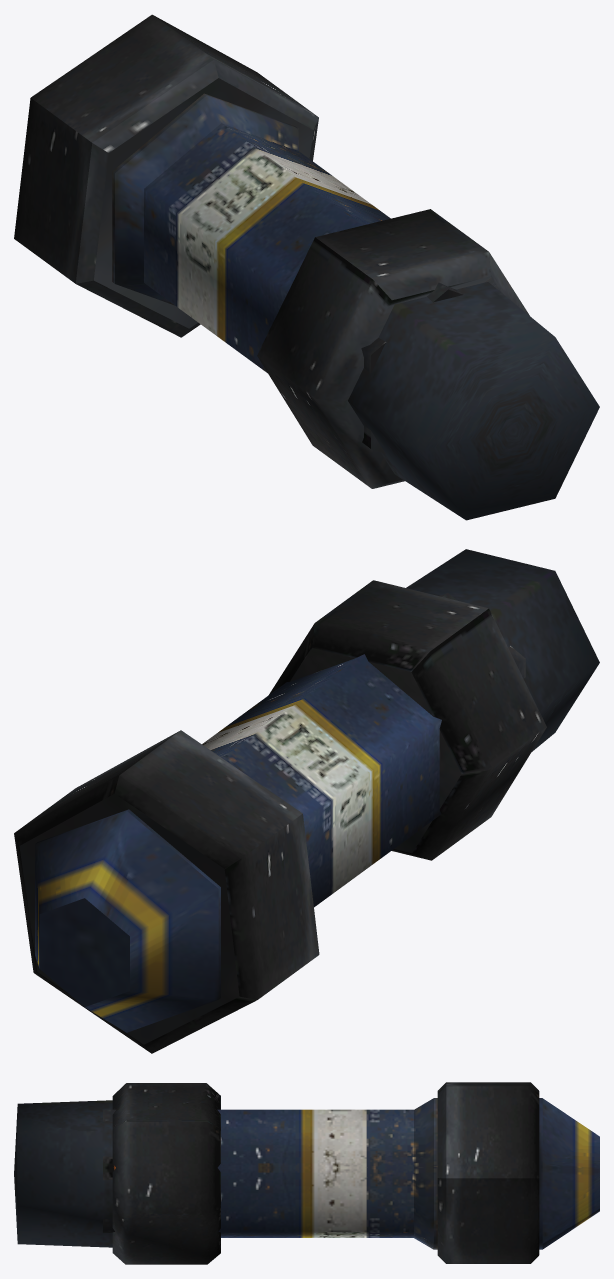
The model's file is t6_wpn_grenade_emp_world_LOD1.obj.
3 renders of one model, top to bottom at view 1: azimuth 30°, elevation 25°; view 2: azimuth 150°, elevation 25°; view 3: azimuth 270°, elevation 25°, orthographic. The views are drawn at different scales.
Visible parts, largest first — view 1: mtl_t6_wpn_grenade_emp, mtl_t6_wpn_grenade_emp_glass_world; view 2: mtl_t6_wpn_grenade_emp, mtl_t6_wpn_grenade_emp_glass_world; view 3: mtl_t6_wpn_grenade_emp, mtl_t6_wpn_grenade_emp_glass_world.
Boxes of the visible parts, left/top/right/bottom form: mtl_t6_wpn_grenade_emp: left=14, top=14, right=529, bottom=488; mtl_t6_wpn_grenade_emp_glass_world: left=348, top=282, right=599, bottom=520; mtl_t6_wpn_grenade_emp: left=14, top=580, right=546, bottom=1053; mtl_t6_wpn_grenade_emp_glass_world: left=406, top=549, right=599, bottom=751; mtl_t6_wpn_grenade_emp: left=103, top=1082, right=599, bottom=1264; mtl_t6_wpn_grenade_emp_glass_world: left=14, top=1100, right=112, bottom=1247.
Bounding box in the file's own units: 5.93 × 6.29 × 18.05.
